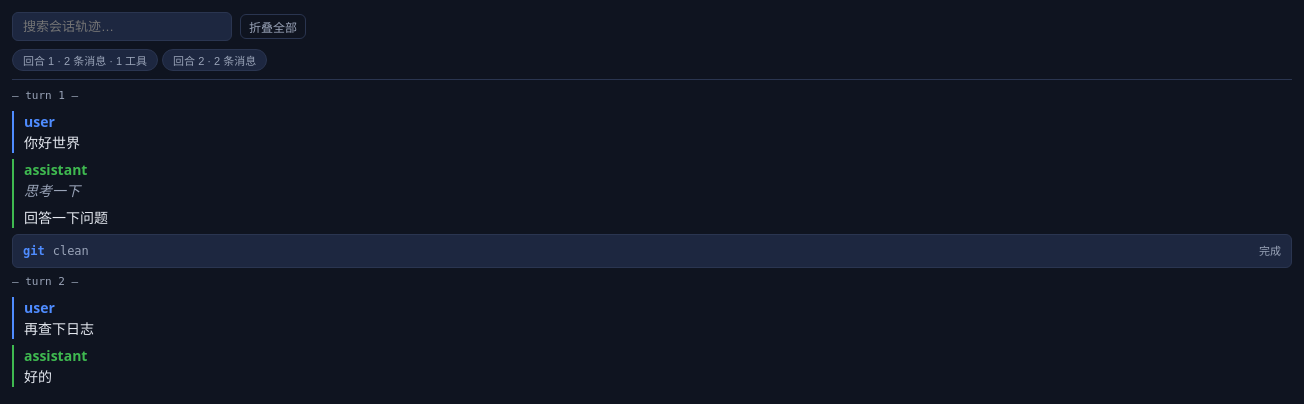
it: Trajectory search › reports no match without crashing on remaining events
The width and height of the screenshot is (1304, 404).
Type "zzzz" into the field with class "searchbox" at x=122, y=26, box [12,12,232,41]
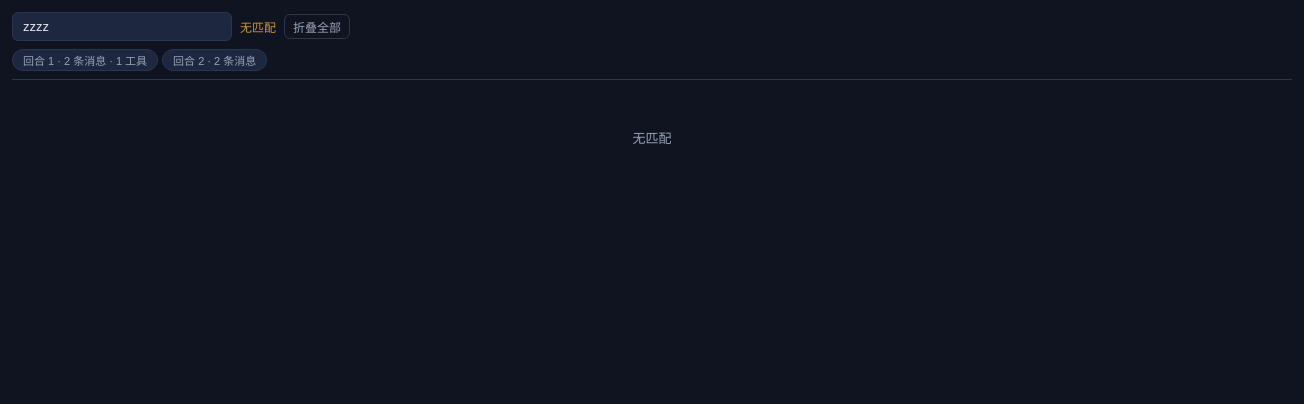
Expected: the 1st text "无匹配" is shown, [240,18,276,35]
Clear the field with class "searchbox" at x=122, y=26, box [12,12,232,41]
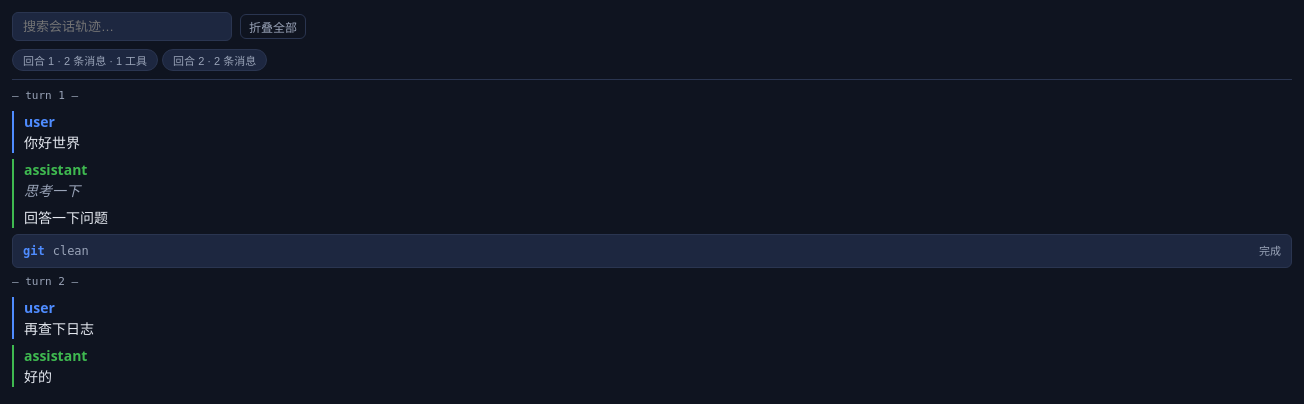
Click the button "折叠全部" at x=273, y=26, box [240,14,306,39]
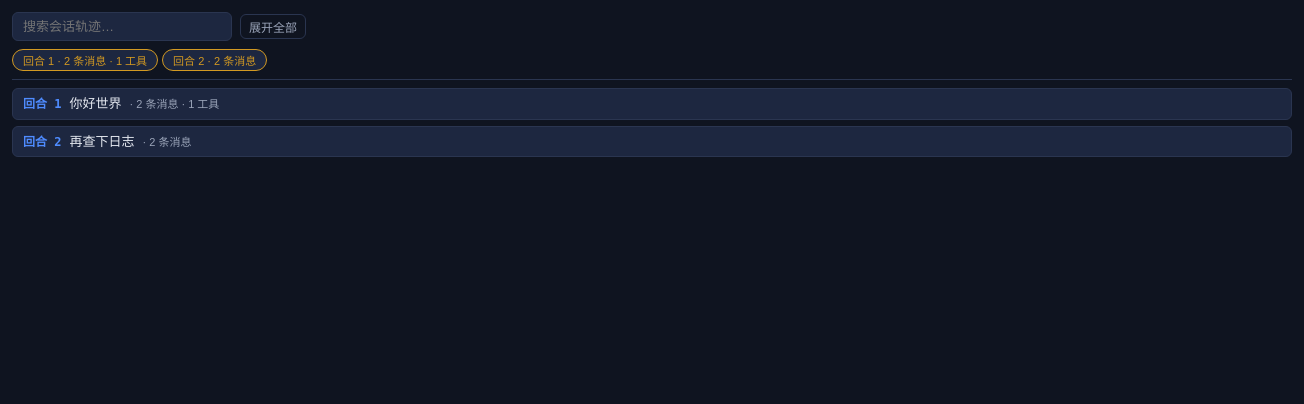
Expected: the number of buttons with class "summary" is 2, [12,88,1292,120]; [12,126,1292,157]
